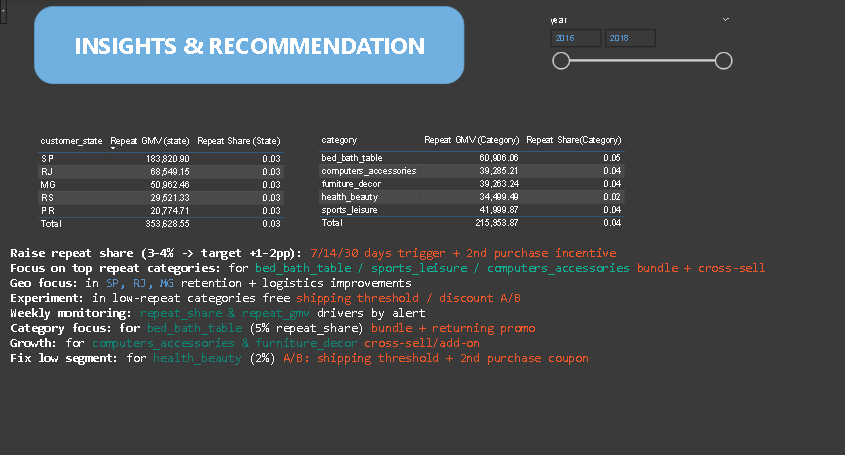

Layout of this report page (visuals, bound fields, positions):
{"tool":"powerbi","page":{"name":"Page 3","canvas":[1280,720],"ordinal":2},"visuals":[{"type":"tableEx","fields":{"Values":["mart mart_repeat_gmv_by_state_month.customer_state","mart mart_repeat_gmv_by_state_month.Repeat GMV (state)","mart mart_repeat_gmv_by_state_month.Repeat Share (State)"]},"box":[50,196.7,383.3,170],"z":0},{"type":"tableEx","fields":{"Values":["mart mart_repeat_gmv_by_category_month.category","mart mart_repeat_gmv_by_category_month.Repeat GMV (Category)","mart mart_repeat_gmv_by_category_month.Repeat Share(Category)"]},"box":[462.9,195.7,467.1,170],"z":1000},{"type":"textbox","box":[10,360,1155,205],"z":2000},{"type":"actionButton","box":[0,0,10.3,39.7],"z":3000},{"type":"slicer","fields":{"Values":["dim_month.year"]},"box":[796.7,20,288.3,143.3],"z":4000},{"type":"shape","box":[50,12.5,632.5,115],"z":5000}]}

Visuals, with their boxes on the page's 1280x720 design canvas (x1, y1, x2, y2). These are canvas units, not pixel positions in the 845x455 screenshot, which may show the page scaled, cropped or inside an application window:
tableEx - mart mart_repeat_gmv_by_state_month.customer_state x mart mart_repeat_gmv_by_state_month.Repeat GMV (state): 50 197 433 367
tableEx - mart mart_repeat_gmv_by_category_month.category x mart mart_repeat_gmv_by_category_month.Repeat GMV (Category): 463 196 930 366
textbox: 10 360 1165 565
actionButton: 0 0 10 40
slicer - dim_month.year: 797 20 1085 163
shape: 50 12 682 128
